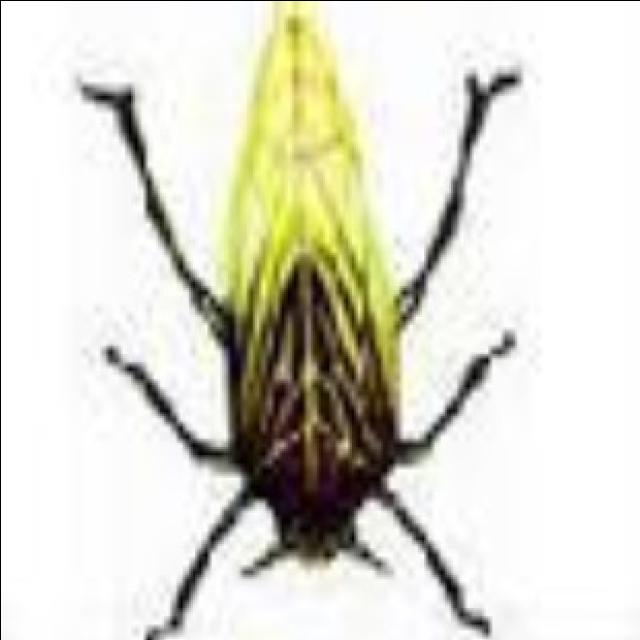brown plant hopper: (83, 0, 518, 640)
